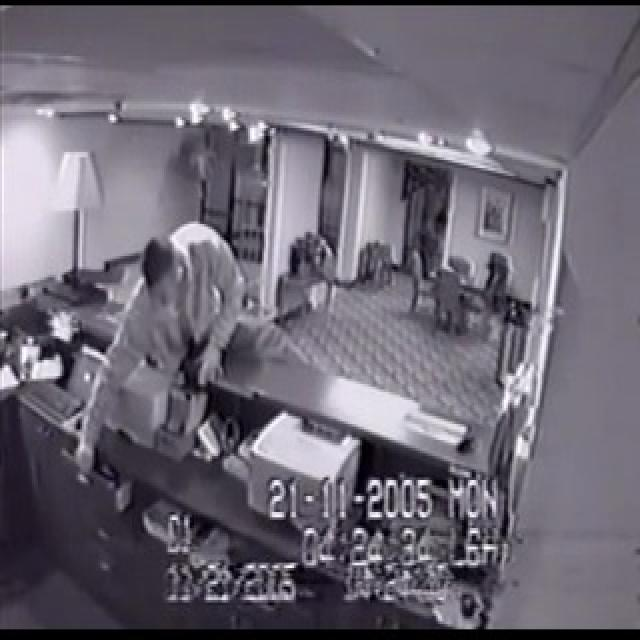thief: (77, 210, 319, 490)
